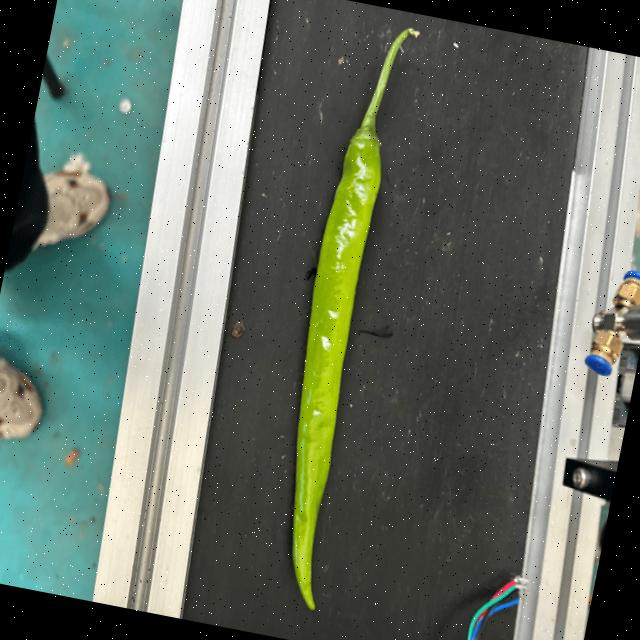chili: (289, 119, 381, 613)
